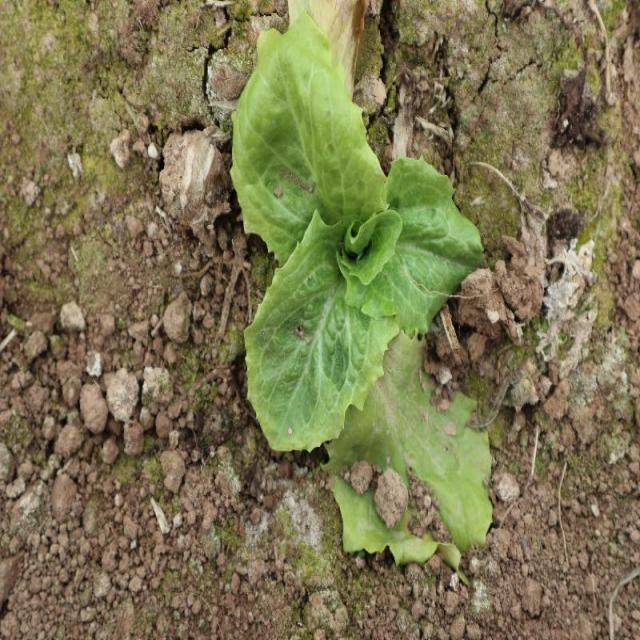crop: (231, 35, 484, 450)
